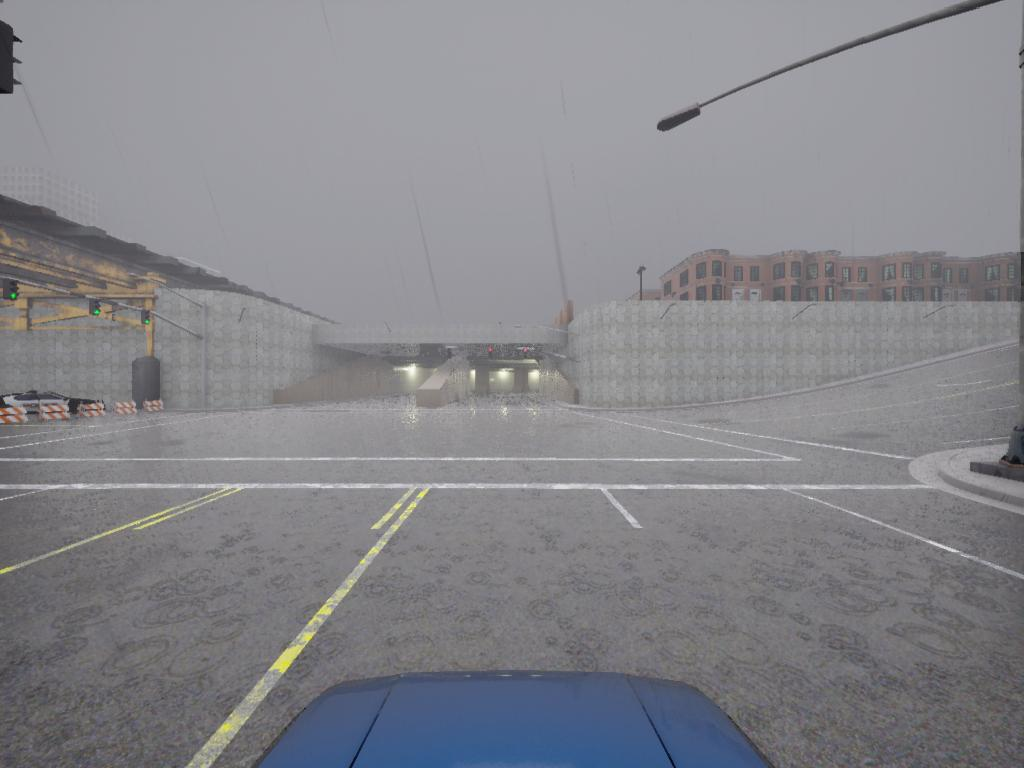traffic_light: (2, 17, 23, 95), (2, 283, 19, 302), (88, 298, 102, 319), (140, 308, 151, 329), (523, 348, 529, 360), (448, 349, 453, 360), (489, 349, 494, 360)
